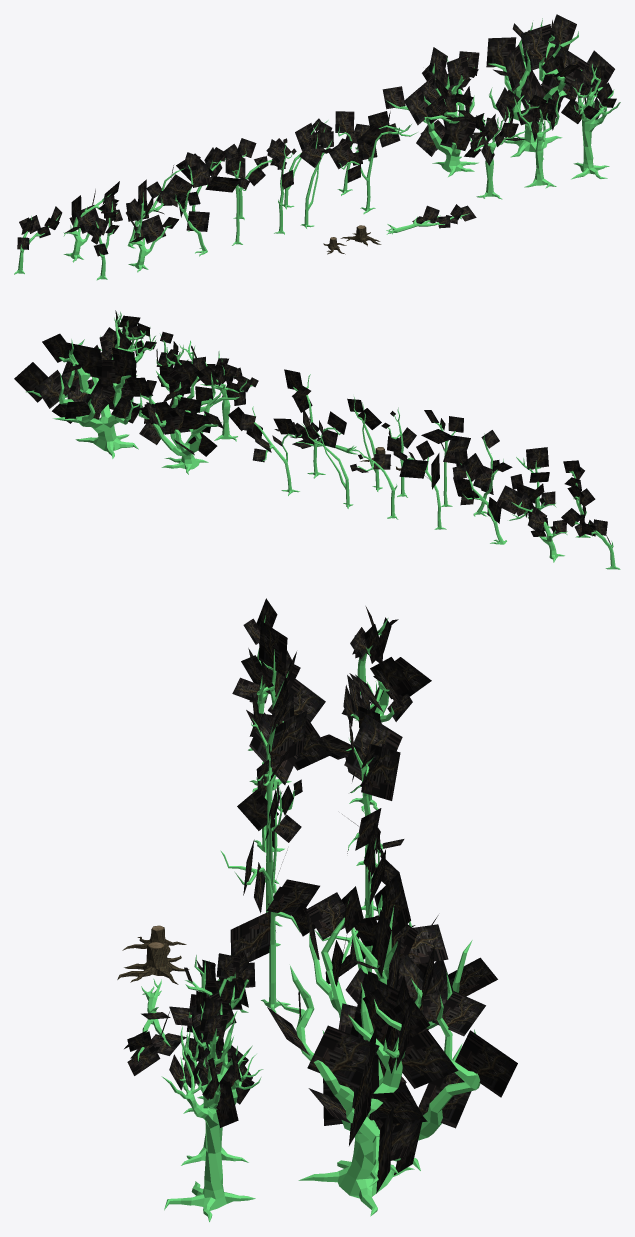
The model's file is Tree.Forest.fbx.
The picture shows the model from 3 angles, top to bottom: view 1: azimuth 30°, elevation 25°; view 2: azimuth 150°, elevation 25°; view 3: azimuth 270°, elevation 25°; orthographic projection. The views are drawn at different scales.
Visible parts, largest first — view 1: Tree.Big_1, Tree.Big_2, Tree.Woman_3, Tree.Woman_2, Tree.Thin_1, Tree.Small_2, Tree.Woman_1, Tree.Thin_4, Tree.Thin.Bent_4, Tree.Thin_5, Tree.Small.Bent_2, Tree.Thin_2 (+8 smaller); view 2: Tree.Big_1, Tree.Big_2, Tree.Small.Bent_2, Tree.Woman_1, Tree.Thin_4, Tree.Thin.Bent_1, Tree.Thin.Bent_4, Tree.Small_2, Tree.Thin_5, Tree.Thin.Bent_5, Tree.Woman_3, Tree.Thin_1 (+7 smaller); view 3: Tree.Big_1, Tree.Big_2, Tree.Woman_3, Tree.Thin_4, Tree.Small_2, Tree.Thin.Bent_5, Tree.Thin_5, Tree.Small.Bent_2, Tree.Woman_2, Tree.Fallen, Tree.Woman_1, Tree.Thin_1 (+9 smaller).
Part boxes in pixels (x1,y1,x2,y2): Tree.Big_1: (486, 14, 614, 159); Tree.Big_2: (382, 47, 484, 176); Tree.Woman_3: (561, 63, 620, 179); Tree.Woman_2: (500, 88, 561, 188); Tree.Thin_1: (163, 152, 210, 256); Tree.Small_2: (126, 179, 178, 272); Tree.Woman_1: (464, 107, 526, 199); Tree.Thin_4: (329, 124, 411, 214); Tree.Thin.Bent_4: (335, 111, 417, 195); Tree.Thin_5: (205, 138, 256, 245); Tree.Small.Bent_2: (63, 181, 122, 262); Tree.Thin_2: (299, 127, 334, 228); Tree.Big_1: (14, 316, 142, 458); Tree.Big_2: (126, 360, 239, 474); Tree.Small.Bent_2: (495, 485, 567, 562); Tree.Woman_1: (192, 351, 258, 441); Tree.Thin_4: (284, 369, 346, 478); Tree.Thin.Bent_1: (452, 451, 506, 544); Tree.Thin.Bent_4: (228, 406, 299, 495); Tree.Small_2: (510, 447, 556, 528); Tree.Thin_5: (421, 410, 470, 506); Tree.Thin.Bent_5: (393, 440, 446, 529); Tree.Woman_3: (98, 310, 156, 404); Tree.Thin_1: (473, 430, 512, 516); Tree.Big_1: (267, 936, 517, 1216); Tree.Big_2: (306, 872, 497, 1083); Tree.Woman_3: (161, 997, 263, 1222); Tree.Thin_4: (220, 839, 319, 1012); Tree.Small_2: (232, 621, 325, 792); Tree.Thin.Bent_5: (344, 714, 402, 865); Tree.Thin_5: (249, 693, 306, 883); Tree.Small.Bent_2: (341, 657, 431, 723); Tree.Woman_2: (181, 951, 249, 1165); Tree.Fallen: (124, 978, 186, 1075); Tree.Woman_1: (169, 955, 255, 1113); Tree.Thin_1: (249, 651, 331, 852).
Size of the model in its own units: 5257 by 978 by 1524.
